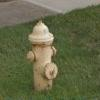a fire hydrant: (26, 19, 58, 88)
